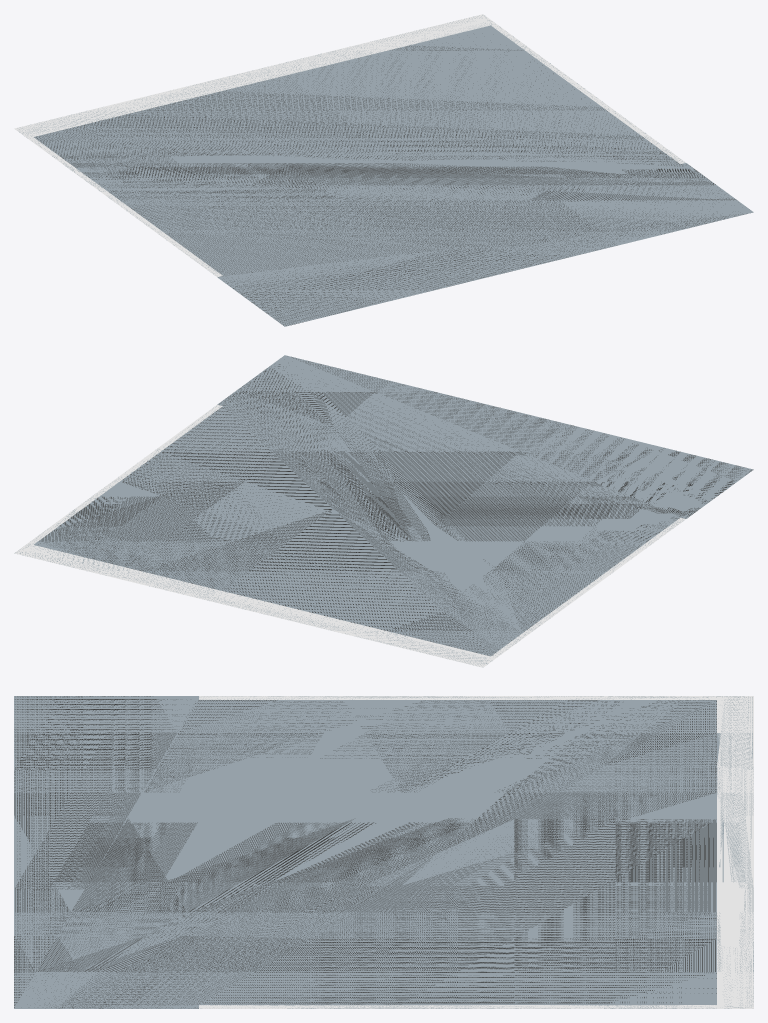
File: lane_end.fbx
The picture shows the model from 3 angles, top to bottom: view 1: azimuth 30°, elevation 25°; view 2: azimuth 150°, elevation 25°; view 3: azimuth 270°, elevation 25°; orthographic projection. The views are drawn at different scales.
Parts seen in each view (by area): view 1: Model; view 2: Model; view 3: Model.
Boxes of the visible parts, box(x1,y1,x2,y2) form: Model: box(14, 14, 753, 326); Model: box(14, 355, 753, 667); Model: box(14, 696, 753, 1008).
Size of the model in its own units: 4 by 0 by 4.
